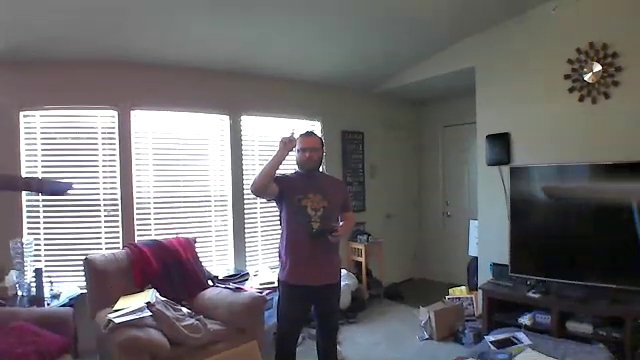up: (278, 125, 302, 154)
